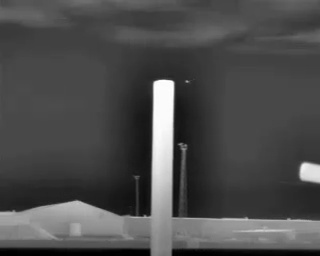BIRD: (183, 77, 191, 85)
